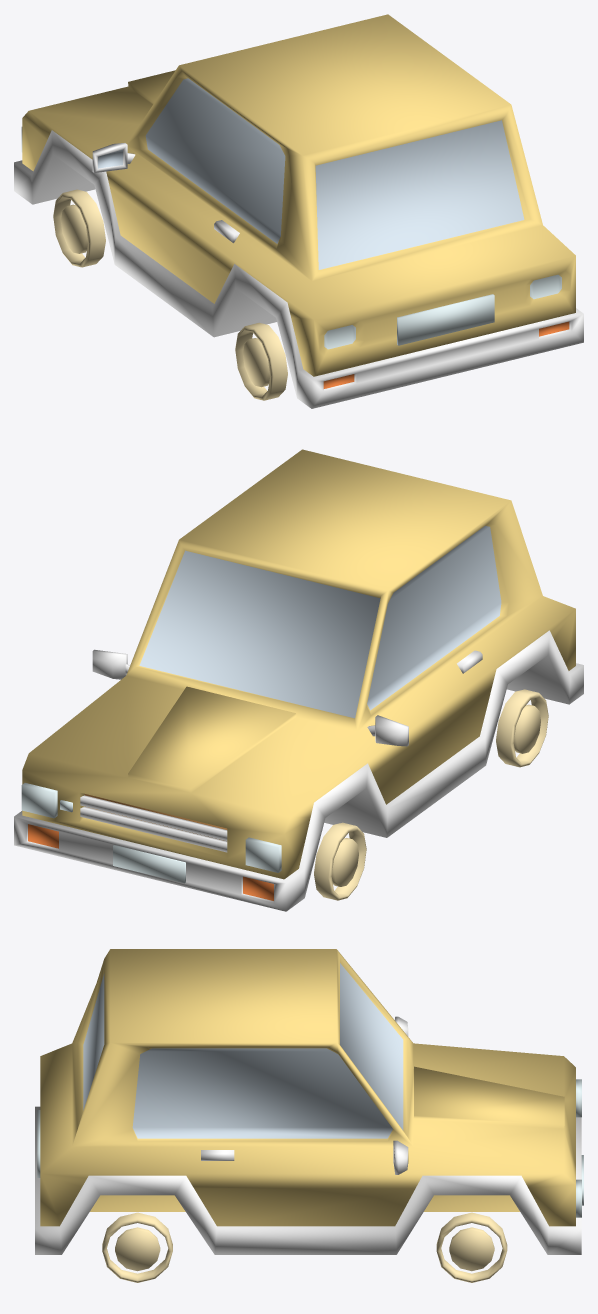
The model's file is Car_06.fbx.
The picture shows the model from 3 angles, top to bottom: view 1: azimuth 30°, elevation 25°; view 2: azimuth 150°, elevation 25°; view 3: azimuth 270°, elevation 25°; orthographic projection. The views are drawn at different scales.
Parts seen in each view (by area): view 1: CarB_T; view 2: CarB_T; view 3: CarB_T.
Boxes of the visible parts, box(x1,y1,x2,y2) form: CarB_T: box(14, 14, 583, 408); CarB_T: box(14, 449, 583, 911); CarB_T: box(35, 949, 583, 1282).
Size of the model in its own units: 84.05 by 67.53 by 144.
1 material, 1 textured.
